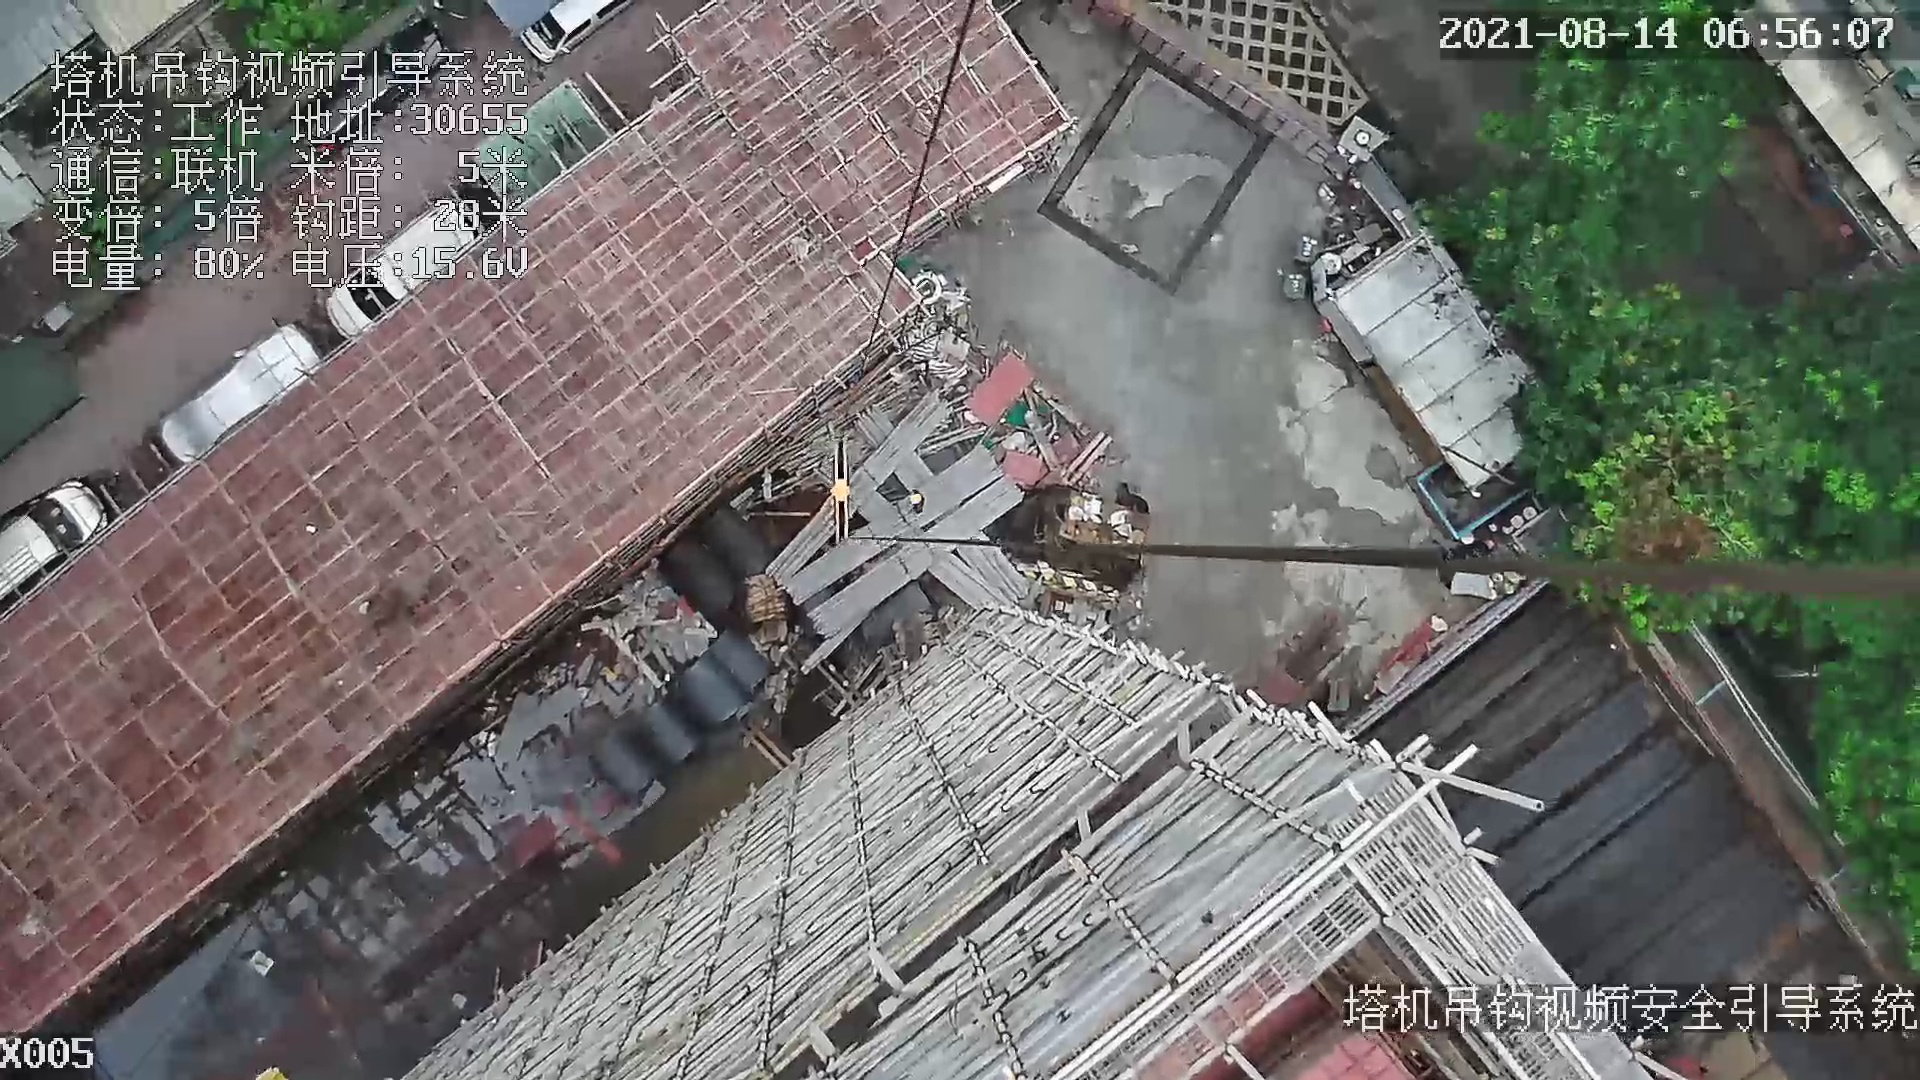helmet: (908, 495, 921, 504)
hook: (827, 445, 854, 536)
person: (909, 488, 924, 515)
rebar: (764, 391, 950, 586), (782, 445, 1004, 606), (809, 477, 1023, 642), (959, 532, 1030, 601), (929, 554, 1003, 609)
wood: (745, 585, 786, 623)
